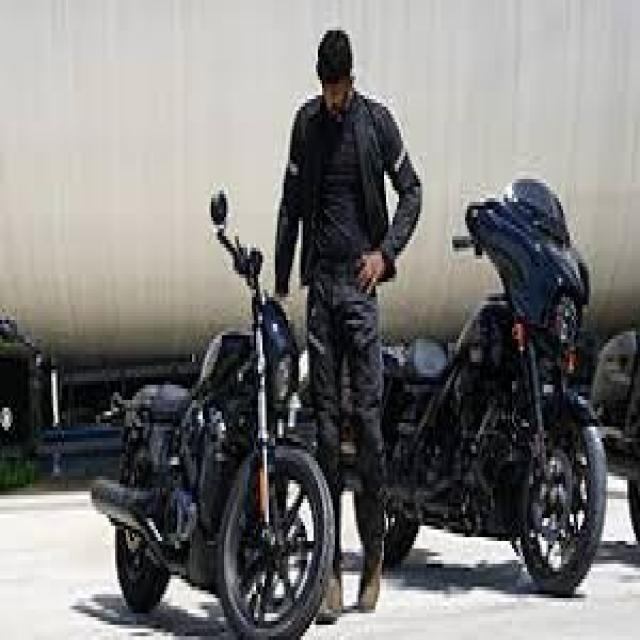MOTORCYCLE: (353, 191, 600, 595), (100, 290, 334, 636)
